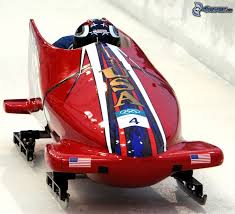Bobsleigh: (3, 17, 224, 204)
